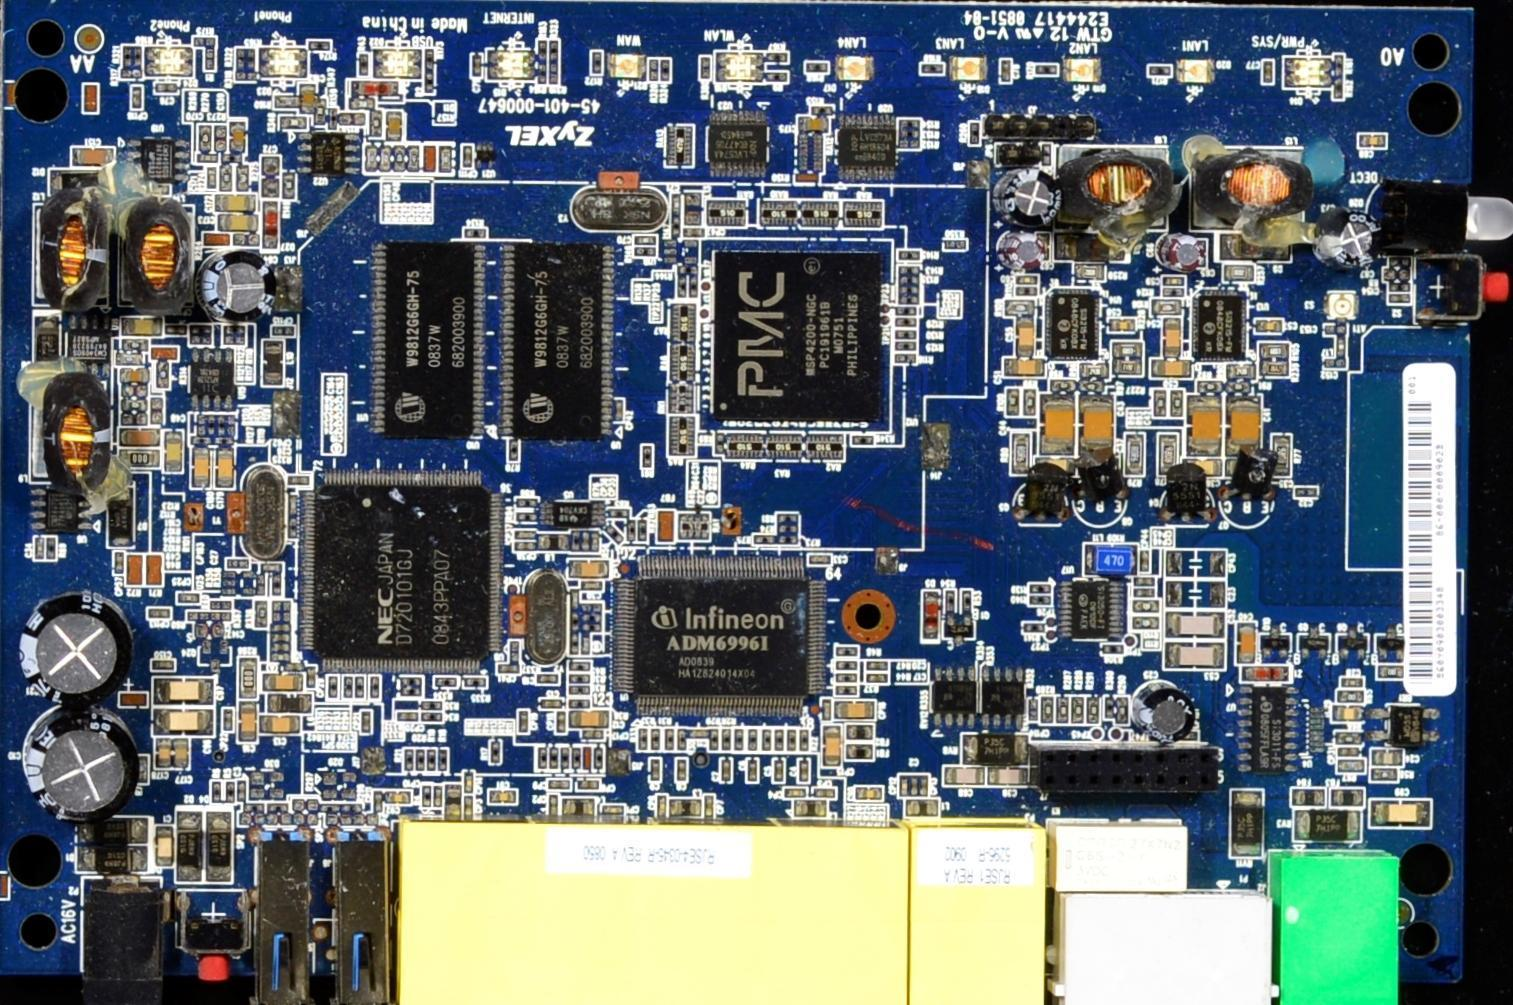Capacitor: (1189, 396, 1224, 457), (1224, 397, 1260, 454), (152, 709, 216, 736), (1370, 800, 1436, 825), (150, 680, 216, 703), (1162, 646, 1226, 669), (1168, 615, 1226, 638), (154, 823, 176, 868), (1184, 453, 1222, 478), (161, 429, 183, 471), (1235, 621, 1256, 664), (238, 702, 259, 745), (832, 698, 872, 719), (262, 713, 301, 735), (120, 429, 161, 448), (942, 767, 986, 785), (262, 673, 303, 692), (566, 561, 609, 579), (217, 214, 261, 231), (214, 454, 235, 489), (122, 317, 163, 335), (190, 452, 210, 488), (824, 725, 841, 766), (172, 736, 191, 771), (989, 769, 1024, 788), (1016, 323, 1036, 356), (72, 148, 110, 165), (571, 712, 609, 729), (153, 736, 170, 771), (1254, 317, 1287, 336), (1152, 361, 1193, 376), (1332, 706, 1366, 723), (1372, 753, 1405, 769), (644, 754, 662, 785), (1166, 321, 1181, 359), (1001, 361, 1045, 374), (215, 198, 256, 212), (300, 83, 317, 113), (797, 118, 830, 133), (230, 120, 246, 153), (1356, 135, 1388, 150), (119, 368, 150, 384), (488, 790, 518, 805), (1130, 600, 1163, 615), (386, 112, 403, 139), (854, 784, 884, 799), (1132, 617, 1160, 632), (747, 759, 764, 783), (1038, 233, 1051, 261), (673, 759, 688, 785), (459, 144, 473, 168), (998, 57, 1012, 83), (771, 758, 784, 784), (1106, 321, 1136, 332), (614, 396, 626, 423), (386, 792, 413, 803), (1338, 677, 1366, 688), (683, 226, 706, 238), (33, 536, 44, 561), (820, 699, 833, 719), (722, 758, 733, 782), (657, 796, 668, 820), (797, 761, 810, 782), (807, 553, 830, 564), (537, 673, 560, 684), (433, 784, 444, 806), (539, 698, 563, 708), (782, 788, 805, 799), (634, 236, 659, 244), (1293, 487, 1319, 496), (206, 166, 217, 188), (514, 528, 534, 539), (362, 711, 372, 734), (176, 594, 201, 603), (273, 641, 291, 653), (465, 771, 474, 795), (1335, 749, 1363, 757), (1135, 576, 1156, 587), (1133, 588, 1156, 597), (305, 666, 315, 687), (1161, 277, 1187, 285), (237, 779, 246, 802), (672, 194, 682, 213), (498, 664, 517, 674), (1016, 275, 1038, 284), (515, 542, 536, 551), (867, 661, 888, 670), (1263, 62, 1272, 83), (473, 53, 481, 76), (396, 712, 419, 720), (156, 84, 177, 92), (273, 623, 291, 631), (198, 154, 219, 162), (272, 654, 294, 661), (866, 675, 887, 682), (584, 584, 604, 590), (273, 634, 289, 642), (285, 664, 302, 672), (263, 563, 282, 570), (583, 534, 589, 551)
Connector: (406, 819, 1048, 1005), (262, 831, 399, 1005), (83, 873, 165, 1005)
IC: (308, 475, 500, 668), (712, 248, 890, 428), (618, 556, 820, 713), (373, 242, 483, 441), (502, 243, 612, 440), (1237, 687, 1296, 773), (703, 110, 771, 178), (834, 115, 901, 181), (1064, 575, 1123, 640), (1193, 290, 1244, 361), (183, 347, 238, 409), (1047, 290, 1100, 356), (128, 129, 187, 185), (978, 665, 1026, 734), (30, 488, 93, 533), (1372, 704, 1439, 746), (932, 666, 978, 727), (63, 318, 111, 376), (299, 133, 357, 177), (541, 500, 607, 523), (477, 143, 498, 169)
Resistor: (1126, 432, 1145, 476), (1272, 435, 1292, 476), (1013, 433, 1031, 473), (1158, 435, 1177, 471), (1074, 262, 1109, 281), (1151, 298, 1183, 317), (1004, 300, 1037, 316), (1111, 341, 1142, 359), (1225, 263, 1254, 280), (1227, 362, 1259, 378), (1261, 343, 1290, 360), (1377, 665, 1406, 682), (1079, 362, 1109, 378), (1147, 62, 1173, 80), (1261, 361, 1291, 376), (1023, 387, 1038, 417), (1115, 358, 1141, 373), (745, 727, 760, 753), (279, 115, 312, 128), (1169, 388, 1182, 417), (698, 52, 711, 81), (1040, 697, 1054, 724), (1335, 692, 1366, 704), (156, 362, 171, 388), (1005, 389, 1019, 415), (589, 49, 603, 75), (1035, 63, 1059, 78), (1116, 696, 1128, 726), (213, 127, 226, 153), (365, 145, 378, 170), (237, 165, 250, 191), (357, 53, 370, 78), (1022, 621, 1050, 634), (1371, 771, 1399, 783), (1059, 695, 1070, 726), (959, 589, 975, 610), (370, 110, 383, 137), (968, 118, 980, 145), (896, 250, 923, 262), (120, 400, 147, 413), (507, 440, 520, 464), (805, 62, 830, 75), (1027, 698, 1040, 725), (402, 745, 414, 772), (808, 103, 837, 114), (1154, 390, 1166, 416), (46, 535, 59, 559), (489, 742, 502, 766), (408, 144, 420, 172), (1048, 380, 1076, 392), (1334, 733, 1362, 745), (284, 174, 296, 198), (765, 71, 790, 83), (642, 443, 653, 470), (603, 528, 623, 544), (515, 511, 538, 524), (833, 684, 857, 697), (198, 124, 210, 150), (750, 534, 776, 545), (257, 601, 268, 627), (832, 673, 858, 684), (537, 744, 549, 769), (639, 726, 649, 754), (1028, 582, 1053, 593), (833, 646, 858, 657), (593, 746, 604, 771), (394, 145, 404, 172), (488, 744, 501, 764), (441, 147, 452, 171), (203, 323, 214, 347), (515, 497, 538, 508), (608, 508, 631, 519), (368, 675, 379, 699), (922, 63, 945, 74), (762, 729, 774, 750), (896, 297, 922, 307), (123, 341, 149, 351), (1194, 381, 1220, 392), (1227, 381, 1253, 392), (189, 323, 201, 345), (1029, 595, 1051, 606), (837, 661, 859, 672), (438, 747, 450, 770), (422, 784, 433, 807), (423, 73, 434, 95), (380, 146, 390, 171), (1080, 381, 1105, 392), (192, 37, 217, 47), (308, 40, 333, 51), (462, 676, 487, 687), (663, 725, 673, 749), (1076, 695, 1085, 722), (350, 99, 374, 109), (894, 355, 917, 364), (205, 47, 215, 71), (775, 728, 785, 751), (211, 780, 221, 803), (634, 248, 659, 257), (946, 586, 954, 611), (567, 700, 593, 709), (898, 143, 921, 152), (222, 167, 232, 190), (464, 228, 487, 238), (675, 278, 686, 298), (778, 513, 798, 524), (626, 521, 636, 544), (123, 46, 133, 68), (548, 62, 559, 84), (723, 729, 733, 752), (573, 748, 583, 770), (1332, 78, 1343, 101), (567, 686, 592, 695), (550, 745, 558, 769), (559, 746, 568, 771), (650, 54, 658, 82), (1089, 695, 1097, 724), (569, 661, 590, 671), (327, 675, 338, 697), (354, 677, 364, 699), (786, 729, 796, 750), (898, 266, 922, 275), (898, 287, 922, 296), (894, 319, 917, 328), (1335, 53, 1344, 76), (511, 639, 520, 663), (398, 688, 422, 696), (798, 728, 808, 752), (226, 779, 235, 803), (902, 119, 922, 129), (854, 437, 874, 447), (571, 532, 581, 552), (236, 49, 246, 69), (569, 634, 579, 654), (710, 731, 720, 752), (208, 413, 216, 435), (247, 48, 256, 71), (421, 713, 443, 722), (120, 69, 143, 78), (733, 728, 743, 750), (427, 747, 436, 770), (1104, 695, 1112, 720), (678, 264, 698, 274), (894, 331, 915, 340), (716, 433, 725, 454), (435, 677, 456, 686), (400, 677, 422, 687), (662, 59, 671, 81), (267, 804, 288, 813), (568, 676, 591, 684), (652, 728, 660, 752), (417, 748, 425, 772), (672, 216, 681, 237), (778, 525, 798, 534), (639, 520, 648, 541), (591, 532, 601, 550), (272, 576, 281, 597), (425, 49, 434, 69), (583, 614, 603, 623), (570, 613, 580, 632), (322, 803, 340, 813), (690, 277, 698, 299), (209, 602, 231, 610), (537, 63, 545, 85), (678, 727, 685, 753), (226, 325, 236, 344), (550, 40, 558, 59), (899, 275, 921, 283), (767, 54, 789, 62), (343, 676, 351, 698), (421, 700, 442, 708), (318, 101, 325, 124), (330, 109, 337, 132), (897, 309, 918, 316), (896, 345, 920, 352), (219, 415, 226, 435), (136, 45, 142, 68), (580, 624, 603, 632), (898, 133, 921, 140), (213, 437, 232, 445), (1162, 289, 1183, 296), (237, 72, 258, 79), (237, 325, 245, 343), (538, 41, 546, 60), (193, 438, 210, 445), (778, 536, 797, 543), (243, 805, 265, 811), (1017, 288, 1037, 294)
Transistor: (1261, 624, 1291, 661), (1297, 628, 1330, 661), (1336, 627, 1366, 662), (942, 614, 975, 645), (1378, 624, 1401, 663)
